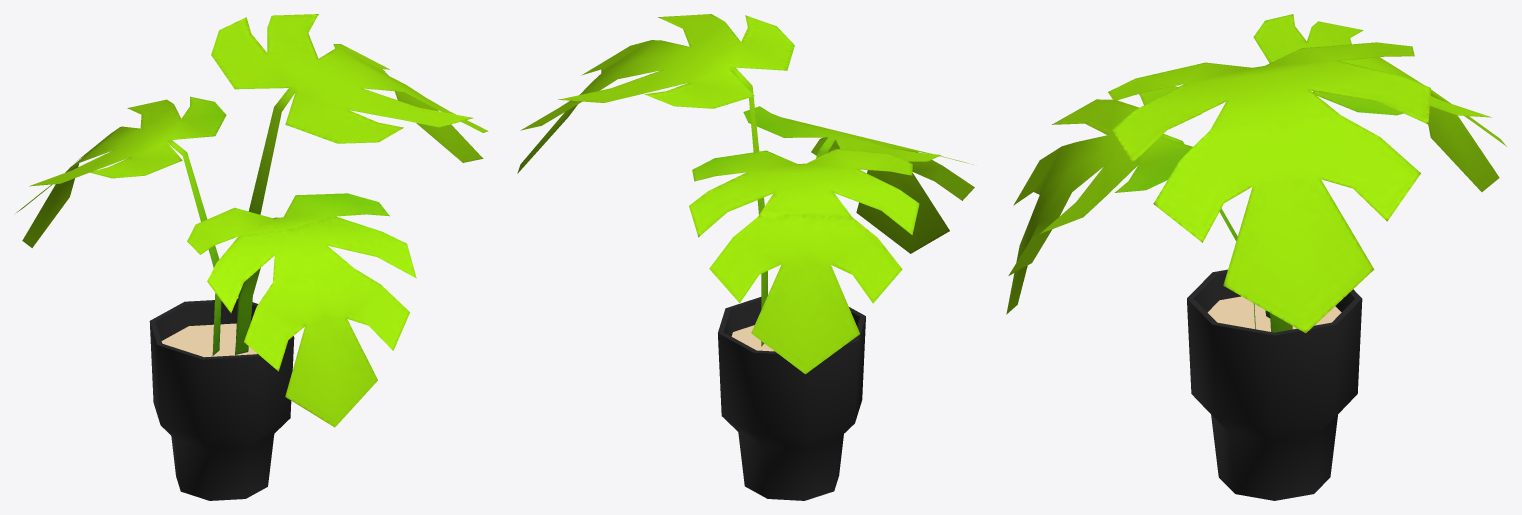
The model's file is plant1.glb.
3 renders of one model, left to right at view 1: azimuth 30°, elevation 25°; view 2: azimuth 150°, elevation 25°; view 3: azimuth 270°, elevation 25°, orthographic. The views are drawn at different scales.
Visible parts, largest first — view 1: Houseplant_1.001_primitive1; view 2: Houseplant_1.001_primitive1; view 3: Houseplant_1.001_primitive1.
Part boxes in pixels (bbox=[...]): Houseplant_1.001_primitive1: bbox=[15, 14, 488, 500]; Houseplant_1.001_primitive1: bbox=[517, 14, 974, 500]; Houseplant_1.001_primitive1: bbox=[1006, 14, 1506, 500].
Size of the model in its own units: 0.769 by 0.7174 by 0.6943.
Materials: 3 (1 with a texture image).
